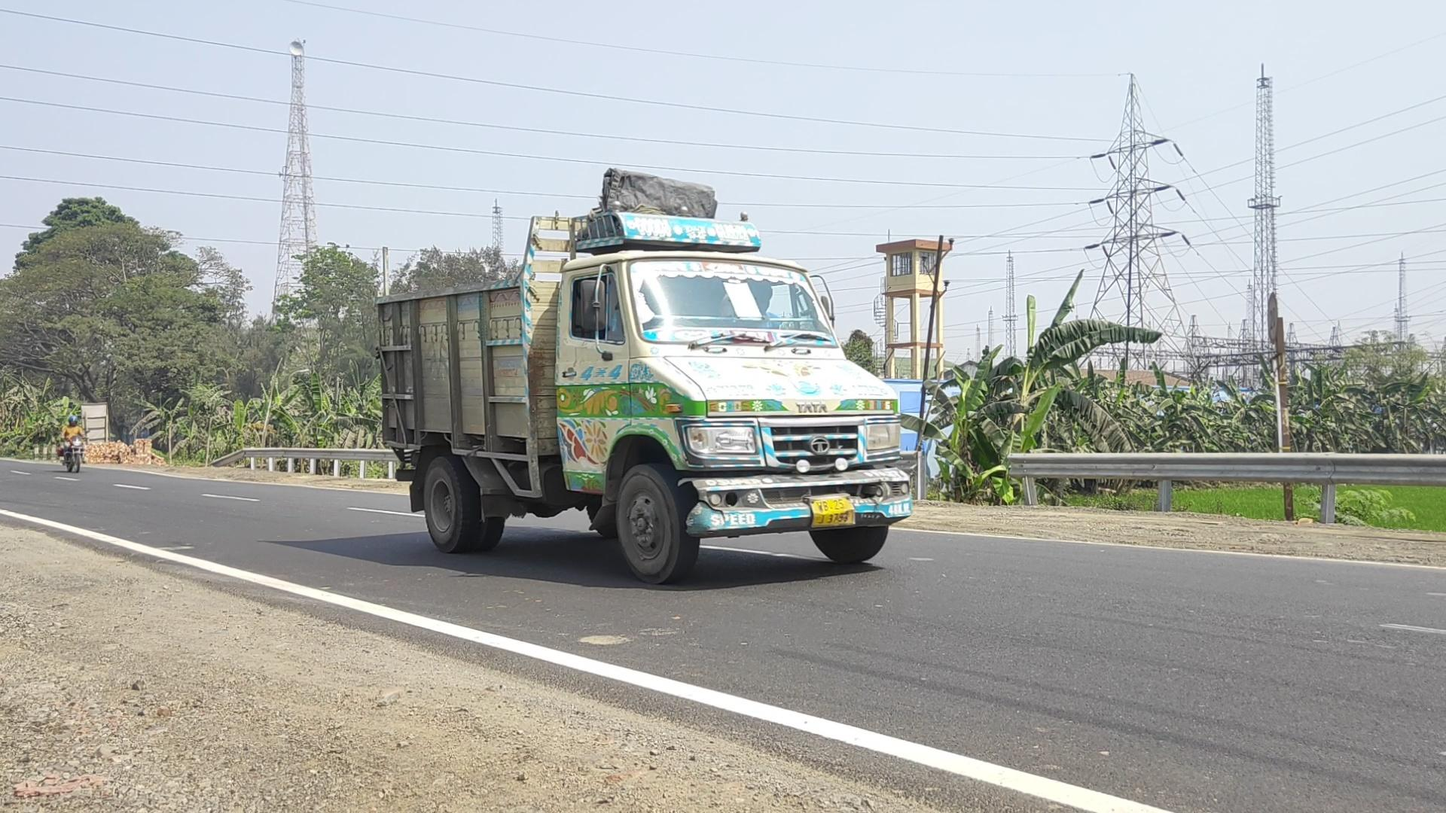bike: (57, 416, 90, 473)
truck: (374, 201, 914, 586)
